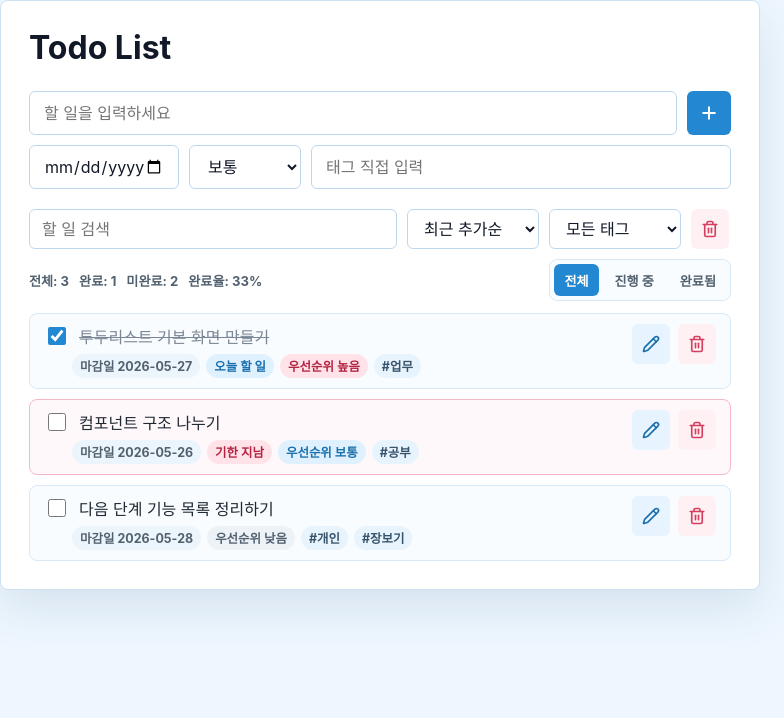
Test: TodoApp › 할 일을 추가할 수 있다.
Type "테스트 작성하기" into the field named "할 일 입력" at (353, 113), box [29,91,677,135]
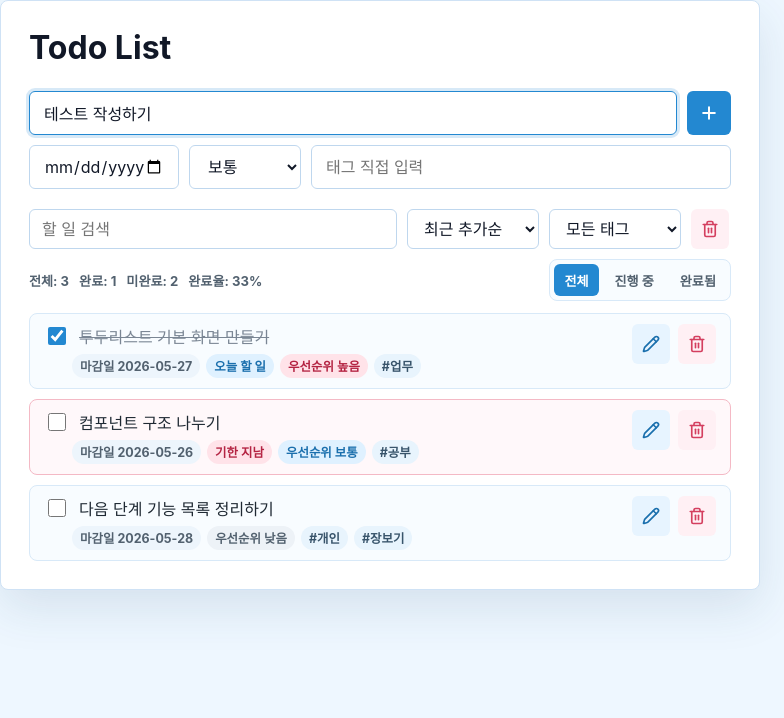
Click the button named "할 일 추가" at (709, 113), box [687,91,731,135]
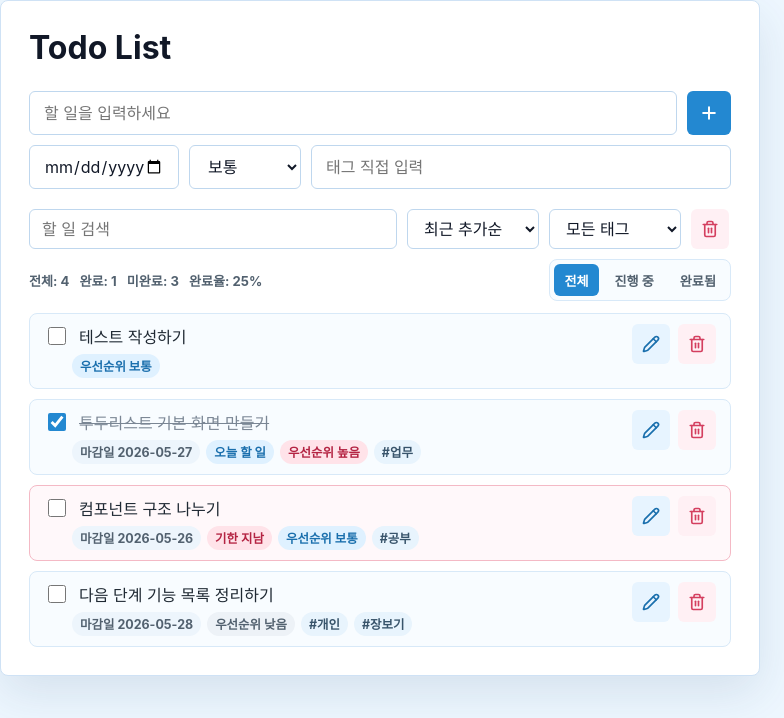
expect the text "테스트 작성하기" is shown: met, box [79,324,186,348]
